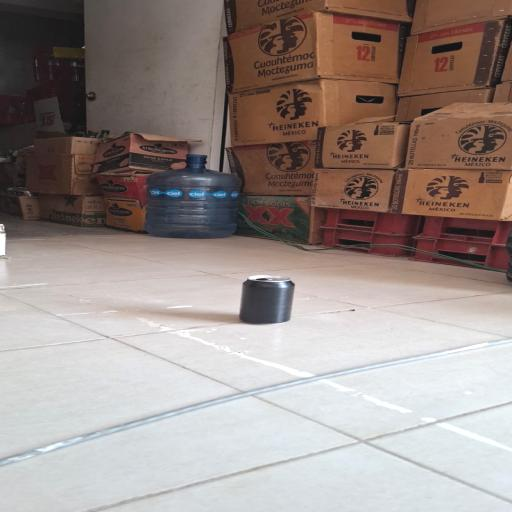LATA: (234, 274, 306, 329)
